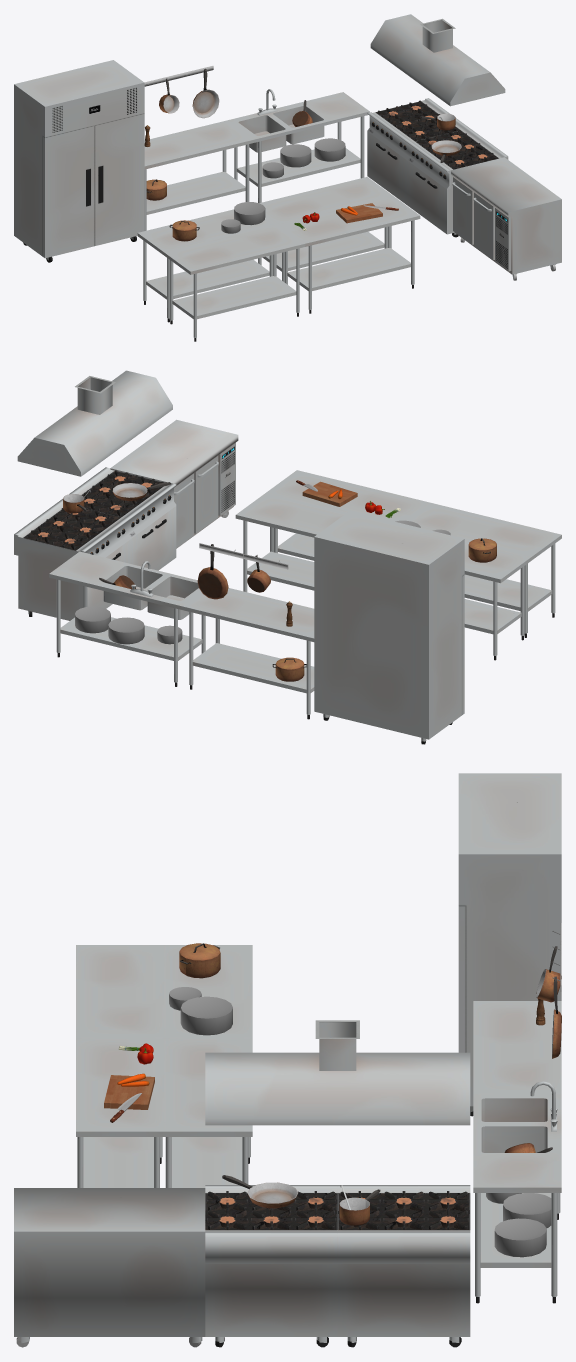
Rendered from Kitchen.fbx.
The picture shows the model from 3 angles, top to bottom: view 1: azimuth 30°, elevation 25°; view 2: azimuth 150°, elevation 25°; view 3: azimuth 270°, elevation 25°; orthographic projection. The views are drawn at different scales.
Parts seen in each view (by area): view 1: defaultMaterial.001, defaultMaterial, defaultMaterial.018, defaultMaterial.005, defaultMaterial.003, defaultMaterial.016, defaultMaterial.004, defaultMaterial.015, defaultMaterial.006, defaultMaterial.002, defaultMaterial.017, defaultMaterial.007 (+7 smaller); view 2: defaultMaterial.001, defaultMaterial.005, defaultMaterial.002, defaultMaterial, defaultMaterial.003, defaultMaterial.004, defaultMaterial.018, defaultMaterial.006, defaultMaterial.015, defaultMaterial.016, defaultMaterial.017, defaultMaterial.031 (+6 smaller); view 3: defaultMaterial, defaultMaterial.001, defaultMaterial.005, defaultMaterial.002, defaultMaterial.006, defaultMaterial.003, defaultMaterial.016, defaultMaterial.015, defaultMaterial.018, defaultMaterial.004, defaultMaterial.017, defaultMaterial.030 (+6 smaller).
Boxes of the visible parts, x1=… form: defaultMaterial.001: x1=14, y1=60, x2=144, y2=262; defaultMaterial: x1=451, y1=157, x2=561, y2=280; defaultMaterial.018: x1=164, y1=224, x2=305, y2=341; defaultMaterial.005: x1=370, y1=14, x2=505, y2=106; defaultMaterial.003: x1=229, y1=89, x2=369, y2=202; defaultMaterial.016: x1=279, y1=196, x2=420, y2=313; defaultMaterial.004: x1=144, y1=120, x2=254, y2=230; defaultMaterial.015: x1=258, y1=177, x2=393, y2=282; defaultMaterial.006: x1=407, y1=127, x2=508, y2=237; defaultMaterial.002: x1=367, y1=98, x2=468, y2=204; defaultMaterial.017: x1=137, y1=209, x2=278, y2=322; defaultMaterial.007: x1=192, y1=68, x2=219, y2=118; defaultMaterial.001: x1=314, y1=511, x2=464, y2=744; defaultMaterial.005: x1=17, y1=370, x2=172, y2=476; defaultMaterial.002: x1=14, y1=501, x2=130, y2=620; defaultMaterial: x1=110, y1=419, x2=238, y2=548; defaultMaterial.003: x1=49, y1=551, x2=205, y2=686; defaultMaterial.004: x1=181, y1=588, x2=314, y2=719; defaultMaterial.018: x1=405, y1=502, x2=561, y2=637; defaultMaterial.006: x1=60, y1=467, x2=176, y2=570; defaultMaterial.015: x1=235, y1=492, x2=346, y2=592; defaultMaterial.016: x1=266, y1=470, x2=428, y2=560; defaultMaterial.017: x1=464, y1=541, x2=531, y2=660; defaultMaterial.031: x1=108, y1=617, x2=144, y2=644; defaultMaterial: x1=14, y1=1188, x2=205, y2=1347; defaultMaterial.001: x1=458, y1=773, x2=561, y2=1116; defaultMaterial.005: x1=205, y1=1020, x2=470, y2=1125; defaultMaterial.002: x1=337, y1=1185, x2=470, y2=1347; defaultMaterial.006: x1=205, y1=1185, x2=337, y2=1347; defaultMaterial.003: x1=473, y1=1081, x2=561, y2=1303; defaultMaterial.016: x1=76, y1=1038, x2=164, y2=1187; defaultMaterial.015: x1=164, y1=1038, x2=252, y2=1187; defaultMaterial.018: x1=76, y1=945, x2=164, y2=1038; defaultMaterial.004: x1=473, y1=1001, x2=561, y2=1094; defaultMaterial.017: x1=164, y1=945, x2=252, y2=1038; defaultMaterial.030: x1=494, y1=1218, x2=546, y2=1257.
Bounding box in the file's own units: 531 × 236 × 391.
Materials: 7 (7 with a texture image).
